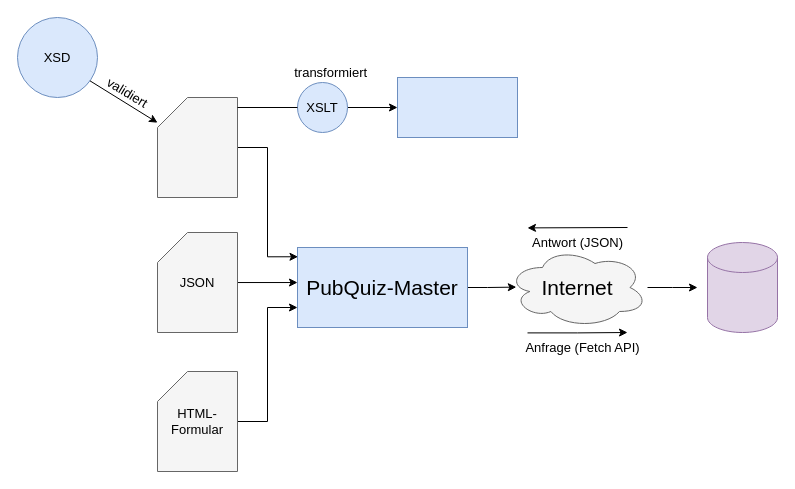
Image size: 795x489. Some labels were removed from this diagram. Here are the shapes that lost their labels. From the top down, the box of each, then its label:
(396, 76, 518, 138): HTML
(156, 96, 238, 198): XML
(706, 242, 778, 332): OpenTrivia DB
